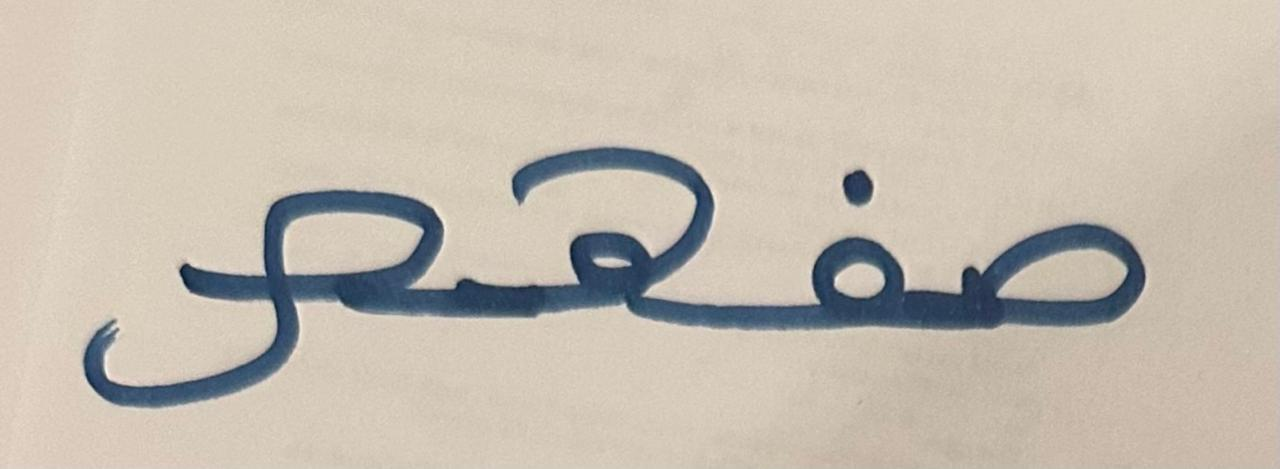feh: (730, 140, 935, 382)
jeem: (476, 130, 727, 381)
seen: (66, 134, 473, 433), (938, 134, 1176, 382)
